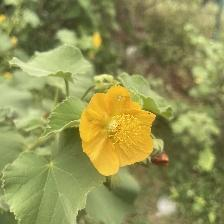indian mallow: (79, 84, 158, 178)
